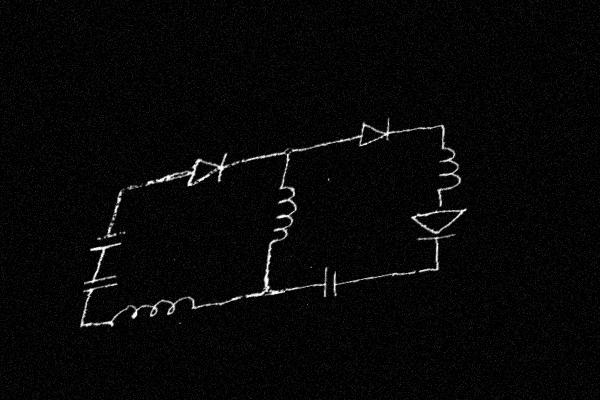capacitor: (86, 222, 131, 260), (313, 258, 348, 305), (82, 266, 124, 300)
diode: (403, 189, 475, 254), (175, 146, 238, 197), (346, 109, 402, 154)
inductor: (92, 282, 208, 340), (253, 174, 307, 261), (425, 132, 469, 203)
